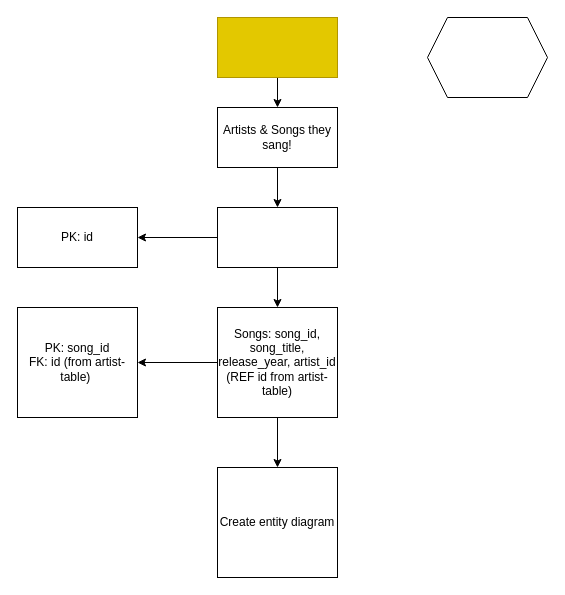
Image size: 565x595. Some labels were removed from this diagram. The centre of each missing label's shape, as x and y in pixels:
"Artists: id, artist_first_name, artist_last_name" goes at point (277, 237).
"GitHub Add Sprint 1 as a milestone with issues" goes at point (487, 57).
"SPRINT 1 Creating schemes" goes at point (277, 47).
